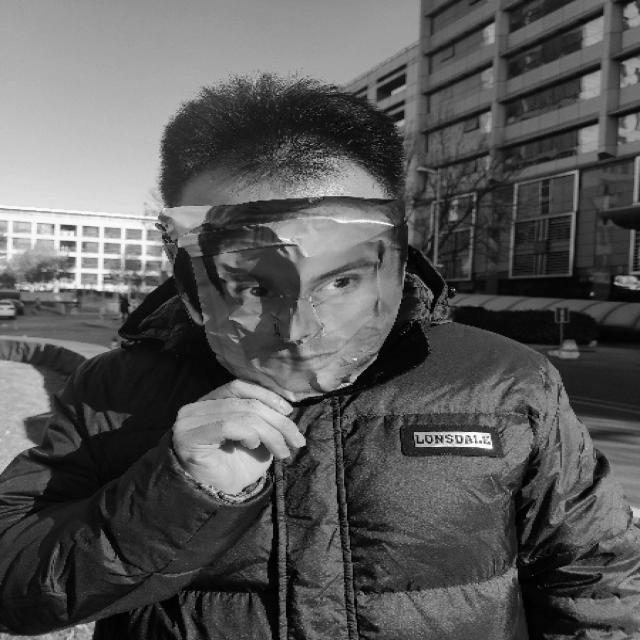fake: (152, 80, 414, 398)
